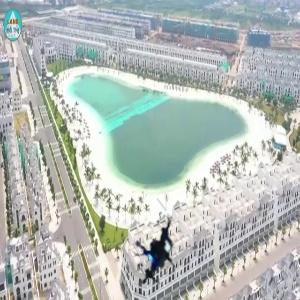drone: (118, 211, 193, 286)
